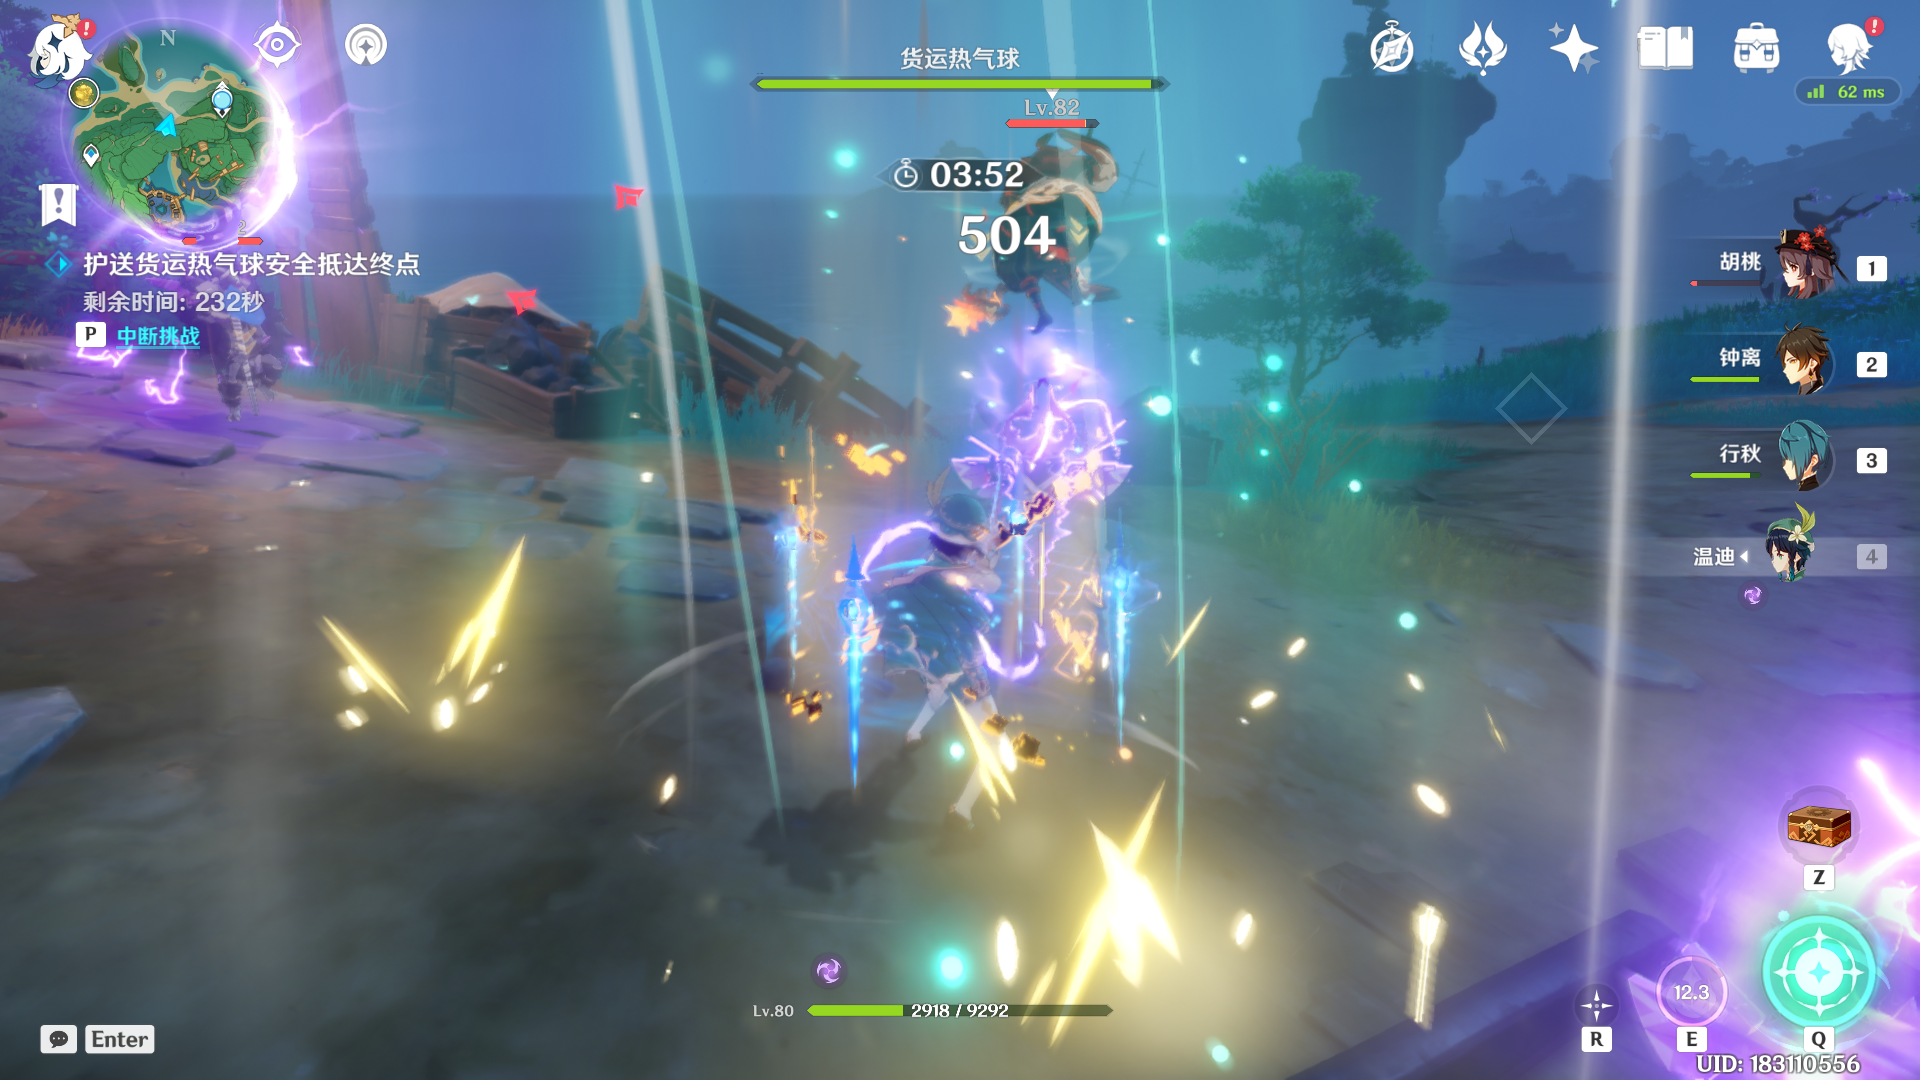caster: (938, 109, 1168, 373)
character: (798, 448, 1073, 814)
